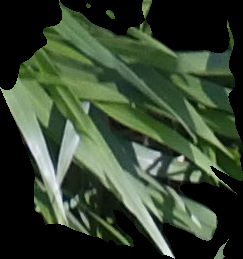grass: (1, 1, 241, 257)
